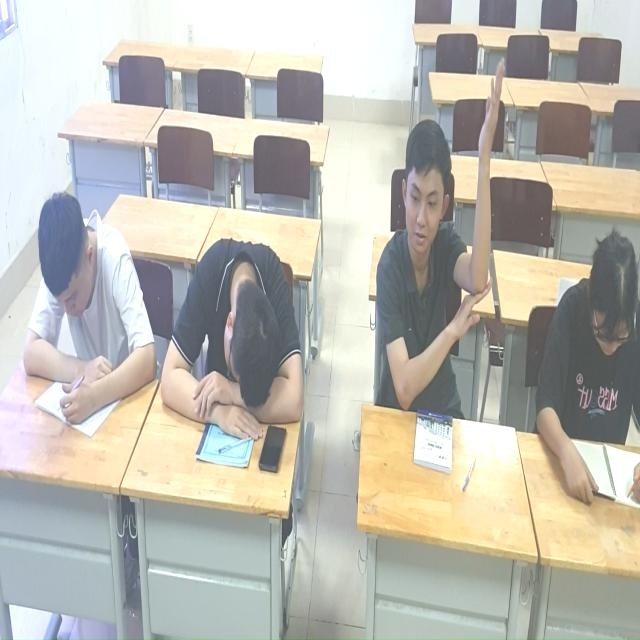raise_hand: (372, 56, 510, 423)
read: (17, 171, 152, 433), (536, 231, 640, 523)
sleep: (156, 228, 307, 434)
